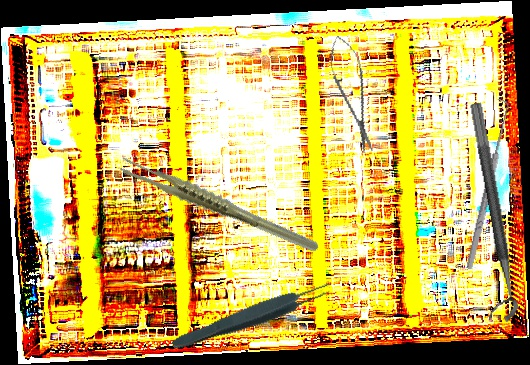Fixation Ring: (452, 101, 521, 326)
Hook Surgical: (458, 98, 514, 271)
Micro Scissor: (322, 32, 384, 156)
Tissue Forceps: (115, 124, 322, 288), (169, 276, 336, 357)
